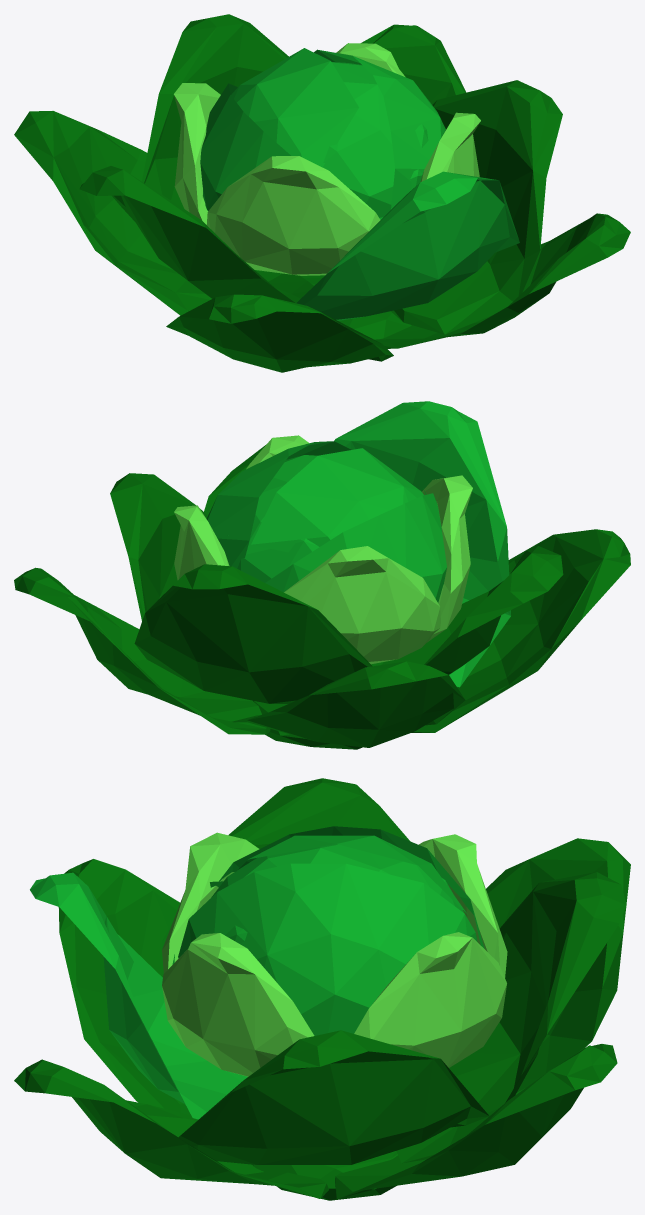
File: cabbage.fbx
3 views of the same model, one above another, from view 1: azimuth 30°, elevation 25°; view 2: azimuth 150°, elevation 25°; view 3: azimuth 270°, elevation 25° (orthographic). The views are drawn at different scales.
Visible parts, largest first — view 1: Cabbage; view 2: Cabbage; view 3: Cabbage.
Boxes of the visible parts, <box> form: Cabbage: <box>14,14,630,372</box>; Cabbage: <box>14,401,630,749</box>; Cabbage: <box>14,778,630,1200</box>.
Size of the model in its own units: 203 by 116 by 200.
